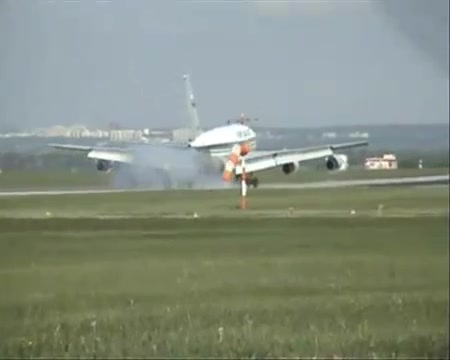aeroplane: (46, 75, 371, 190)
